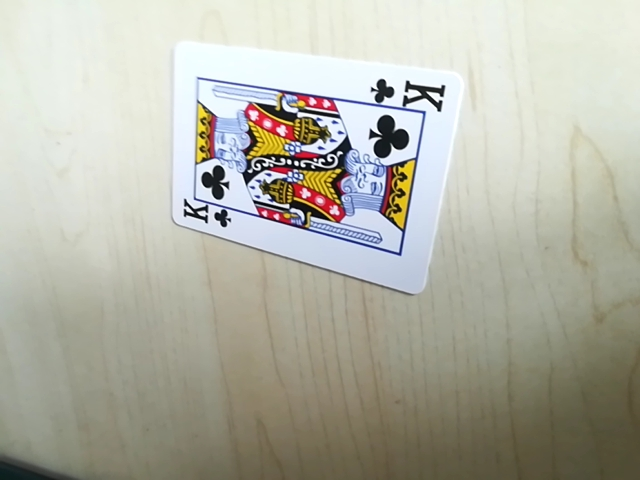mh k: (371, 74, 449, 113), (177, 198, 235, 228)
